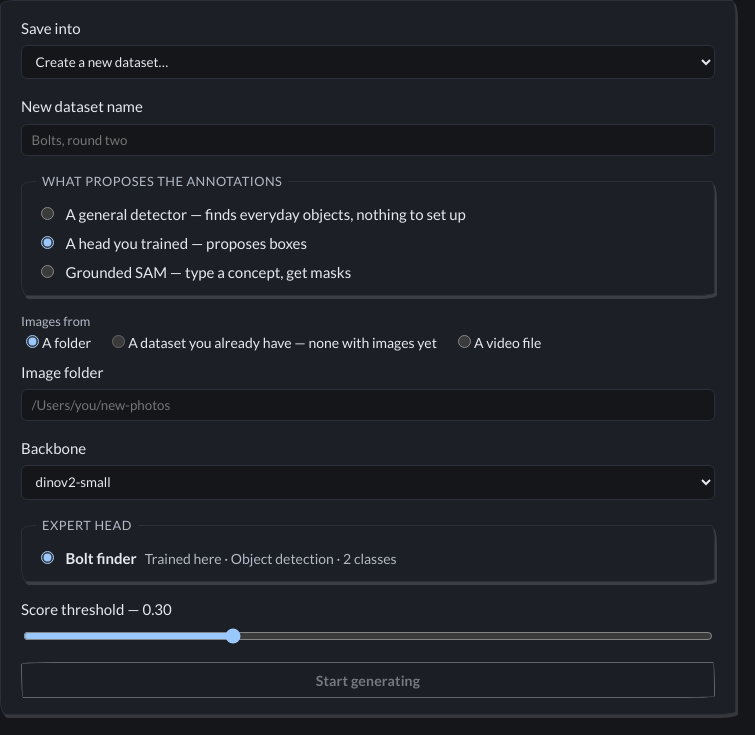
Scenario: proposing with a general detector (doc 42) › tells the user where to get one when none is installed
This screenshot has width=755, height=735.
Click the radio button labelled "general detector" at (48, 214), box [41,207,54,220]
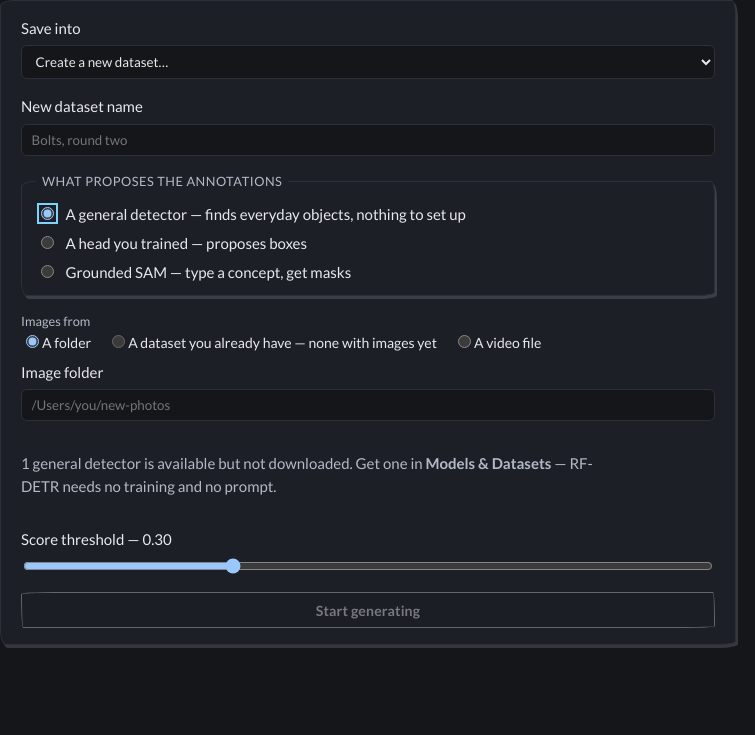
Expected: the message shows "Models & Datasets", [426,454,551,472]
